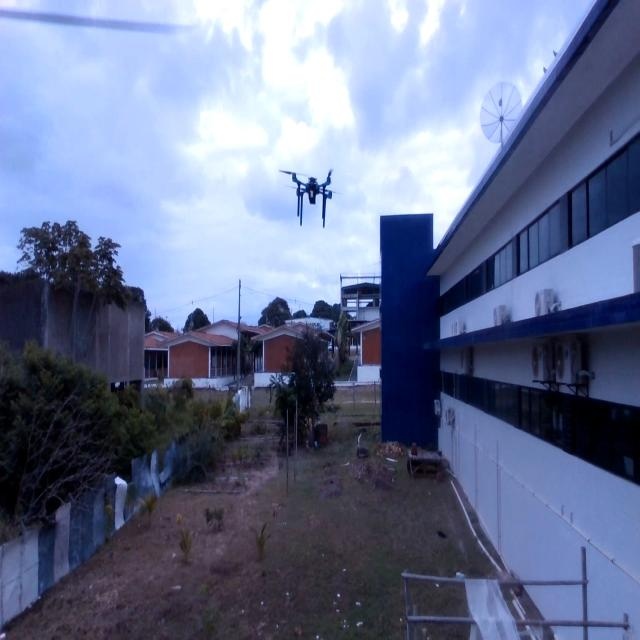-uav-: (274, 153, 357, 245)
